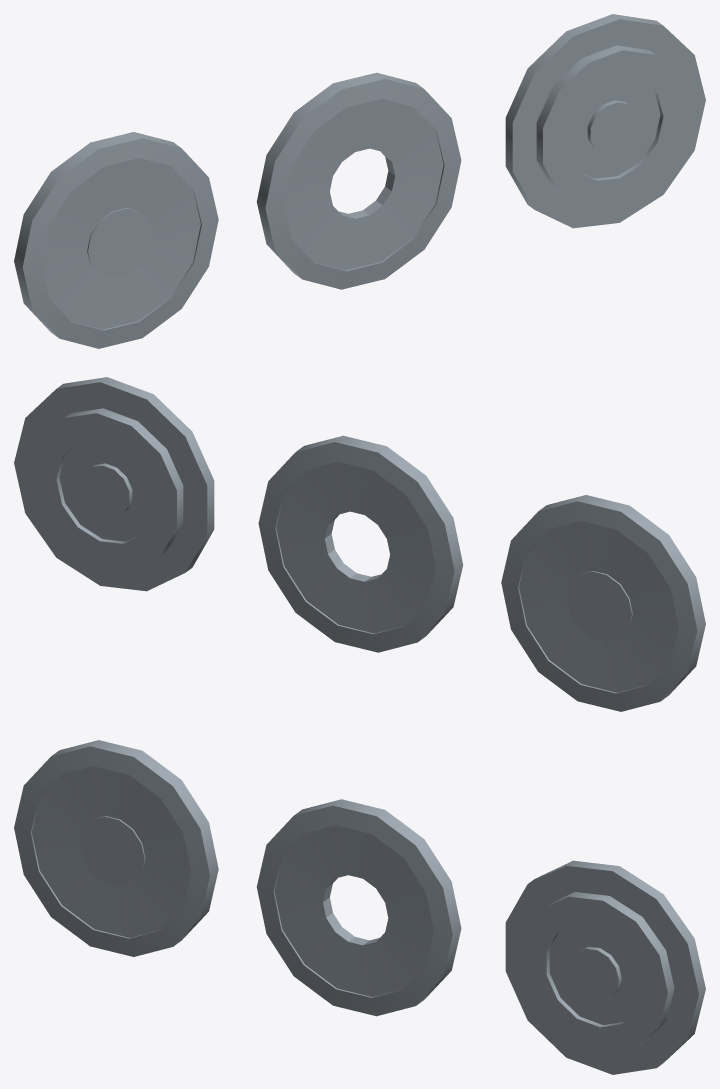
File: SM_Coins (1).fbx
The picture shows the model from 3 angles, top to bottom: view 1: azimuth 30°, elevation 25°; view 2: azimuth 150°, elevation 25°; view 3: azimuth 330°, elevation 25°; orthographic projection.
Parts seen in each view (by area): view 1: SM_Coin_01a, SM_Coin_03a, SM_Coin_02a; view 2: SM_Coin_01a, SM_Coin_03a, SM_Coin_02a; view 3: SM_Coin_01a, SM_Coin_03a, SM_Coin_02a.
Boxes of the visible parts, box(x1,y1,x2,y2) form: SM_Coin_01a: box(14, 132, 218, 348); SM_Coin_03a: box(505, 14, 705, 228); SM_Coin_02a: box(256, 72, 461, 289); SM_Coin_01a: box(501, 495, 705, 711); SM_Coin_03a: box(14, 377, 214, 591); SM_Coin_02a: box(258, 435, 463, 652); SM_Coin_01a: box(14, 740, 218, 956); SM_Coin_03a: box(505, 860, 705, 1074); SM_Coin_02a: box(256, 799, 461, 1016).
Bounding box in the file's own units: 6.98 × 1.99 × 0.3539.
1 material, 1 textured.
